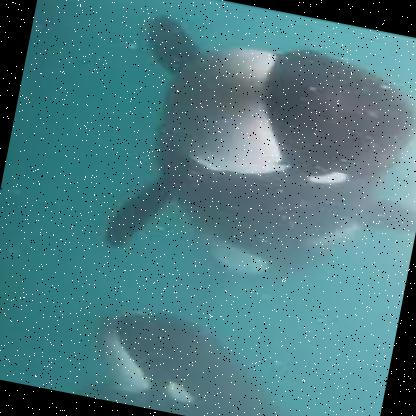killer_whale: (5, 2, 412, 338)
